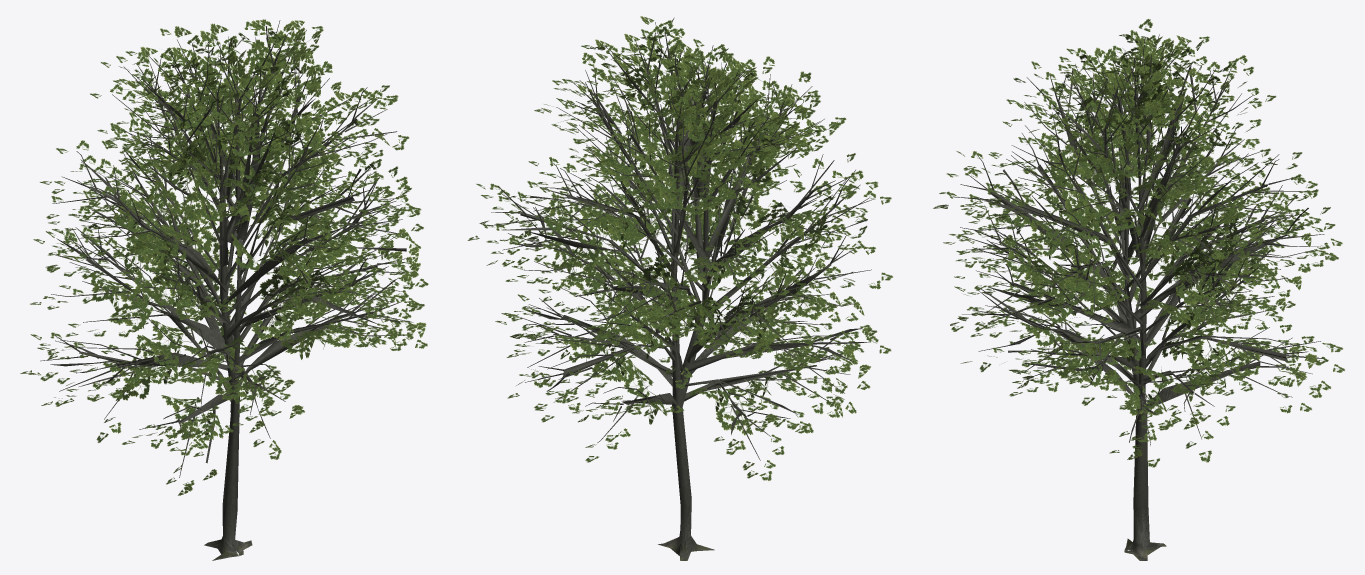
Rendered from tree_022.glb.
The picture shows the model from 3 angles, left to right: view 1: azimuth 30°, elevation 25°; view 2: azimuth 150°, elevation 25°; view 3: azimuth 270°, elevation 25°; orthographic projection. The views are drawn at different scales.
Parts seen in each view (by area): view 1: Tree_022; view 2: Tree_022; view 3: Tree_022.
Boxes of the visible parts, box(x1,y1,x2,y2) form: Tree_022: box(20, 19, 428, 560); Tree_022: box(467, 16, 892, 560); Tree_022: box(933, 19, 1344, 560).
Size of the model in its own units: 5.75 by 8.01 by 5.92.
2 materials, 2 textured.
